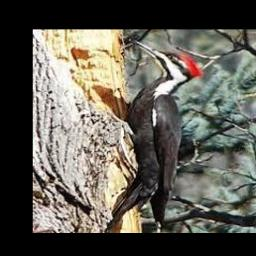Woodpecker: (106, 41, 201, 232)
